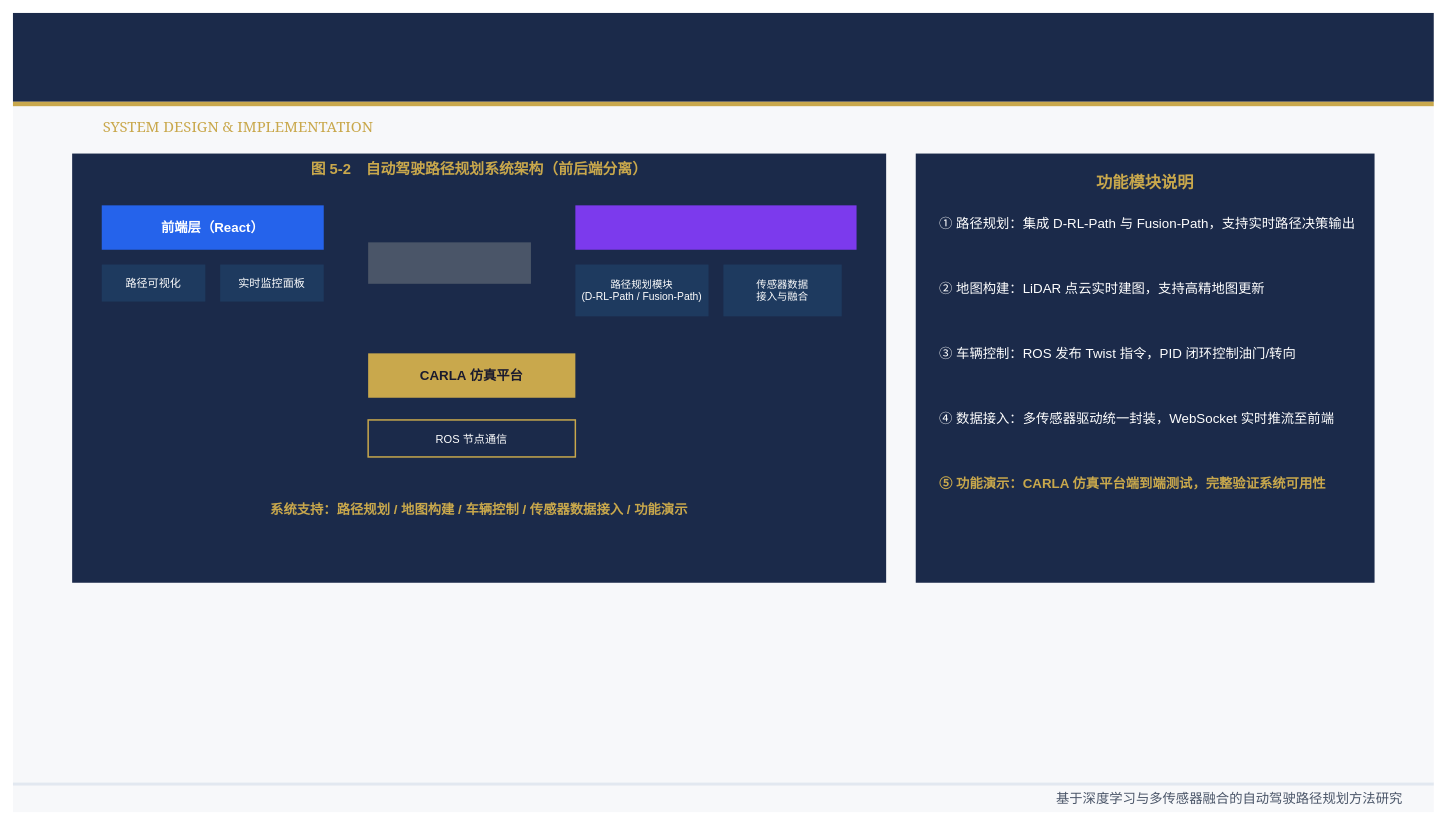
This 1446x824 diagram has some shape labels left out. Here are the shapes that lost their labels. From the top down, the centre of each, then its label:
point (723, 57): 05 系统设计与实现
point (715, 227): 后端层（TensorFlow + ROS）
point (449, 262): REST API / WebSocket
